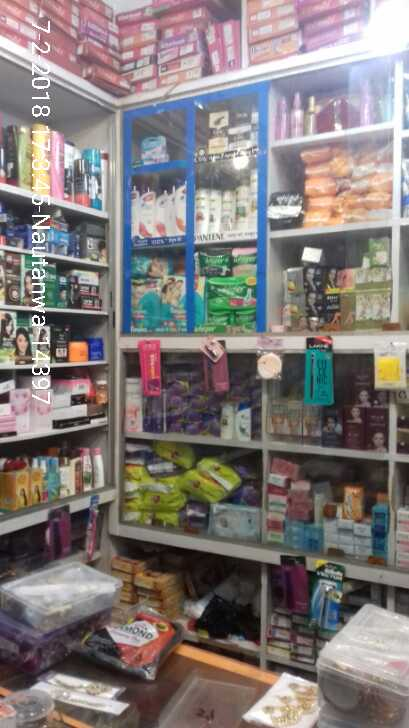gillete: (313, 560, 345, 627), (75, 159, 91, 207), (91, 149, 101, 207), (64, 168, 74, 197)
venus: (142, 135, 166, 162)
